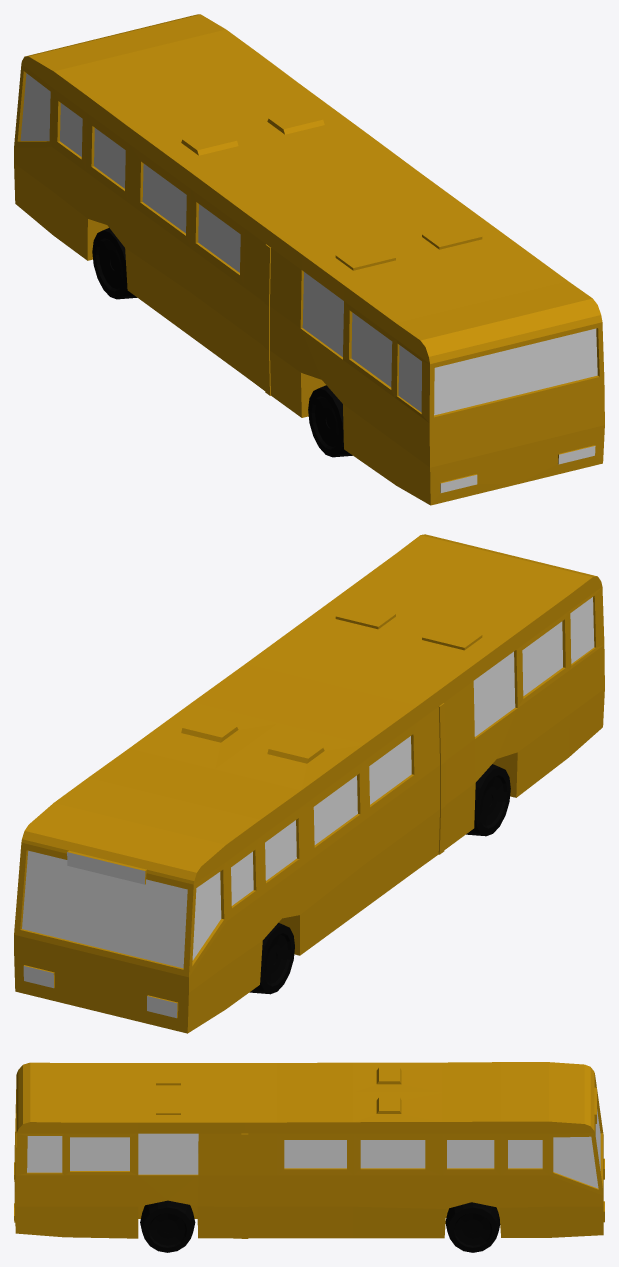
Rendered from bus_asset.fbx.
3 views of the same model, one above another, from view 1: azimuth 30°, elevation 25°; view 2: azimuth 150°, elevation 25°; view 3: azimuth 270°, elevation 25° (orthographic). The views are drawn at different scales.
Visible parts, largest first — view 1: Bus; view 2: Bus; view 3: Bus.
Boxes of the visible parts, left/top/right/bottom form: Bus: left=14, top=14, right=604, bottom=505; Bus: left=14, top=534, right=604, bottom=1033; Bus: left=14, top=1062, right=604, bottom=1252.
Size of the model in its own units: 574 by 600 by 2347.
